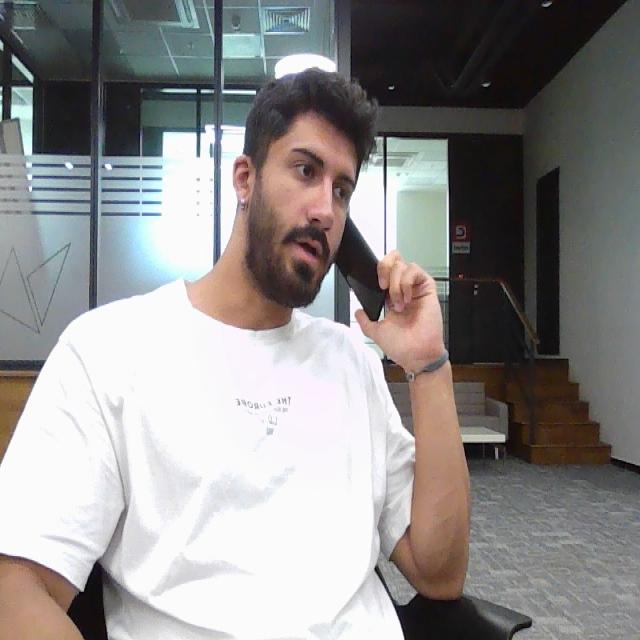phone: (336, 216, 388, 320)
